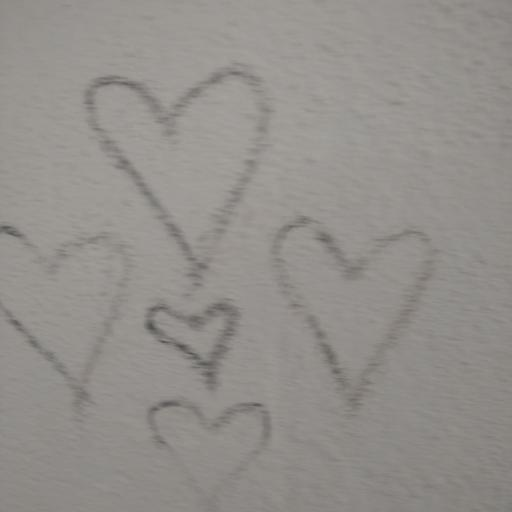stain: (82, 39, 285, 284), (273, 186, 452, 431), (0, 194, 136, 415), (128, 383, 293, 512), (137, 286, 264, 399)
